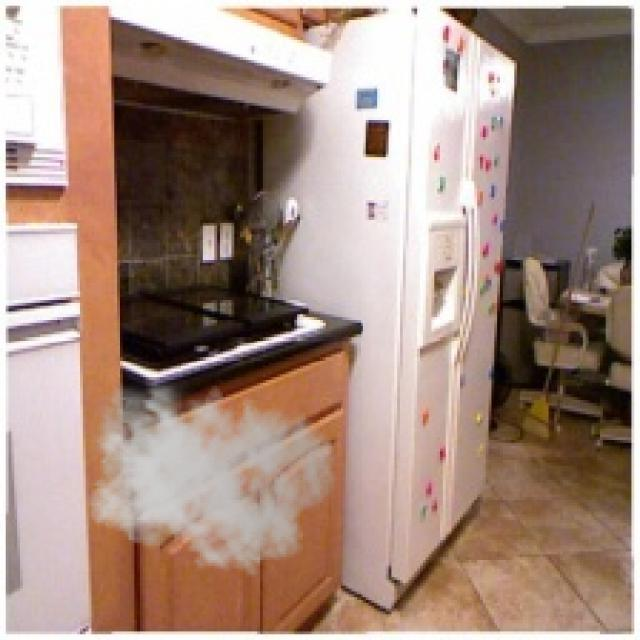smoke: (80, 372, 337, 577)
